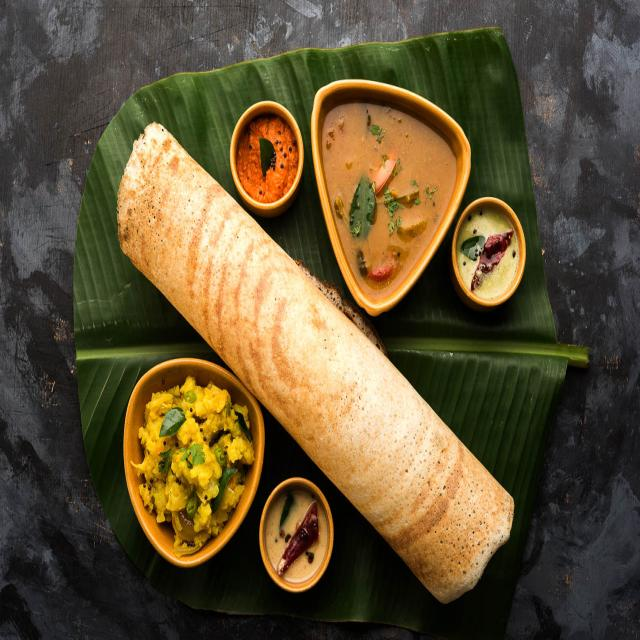DOSA: (112, 123, 515, 601)
